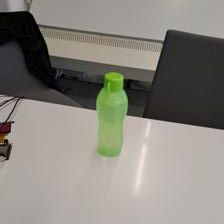bottle: (90, 69, 129, 158)
